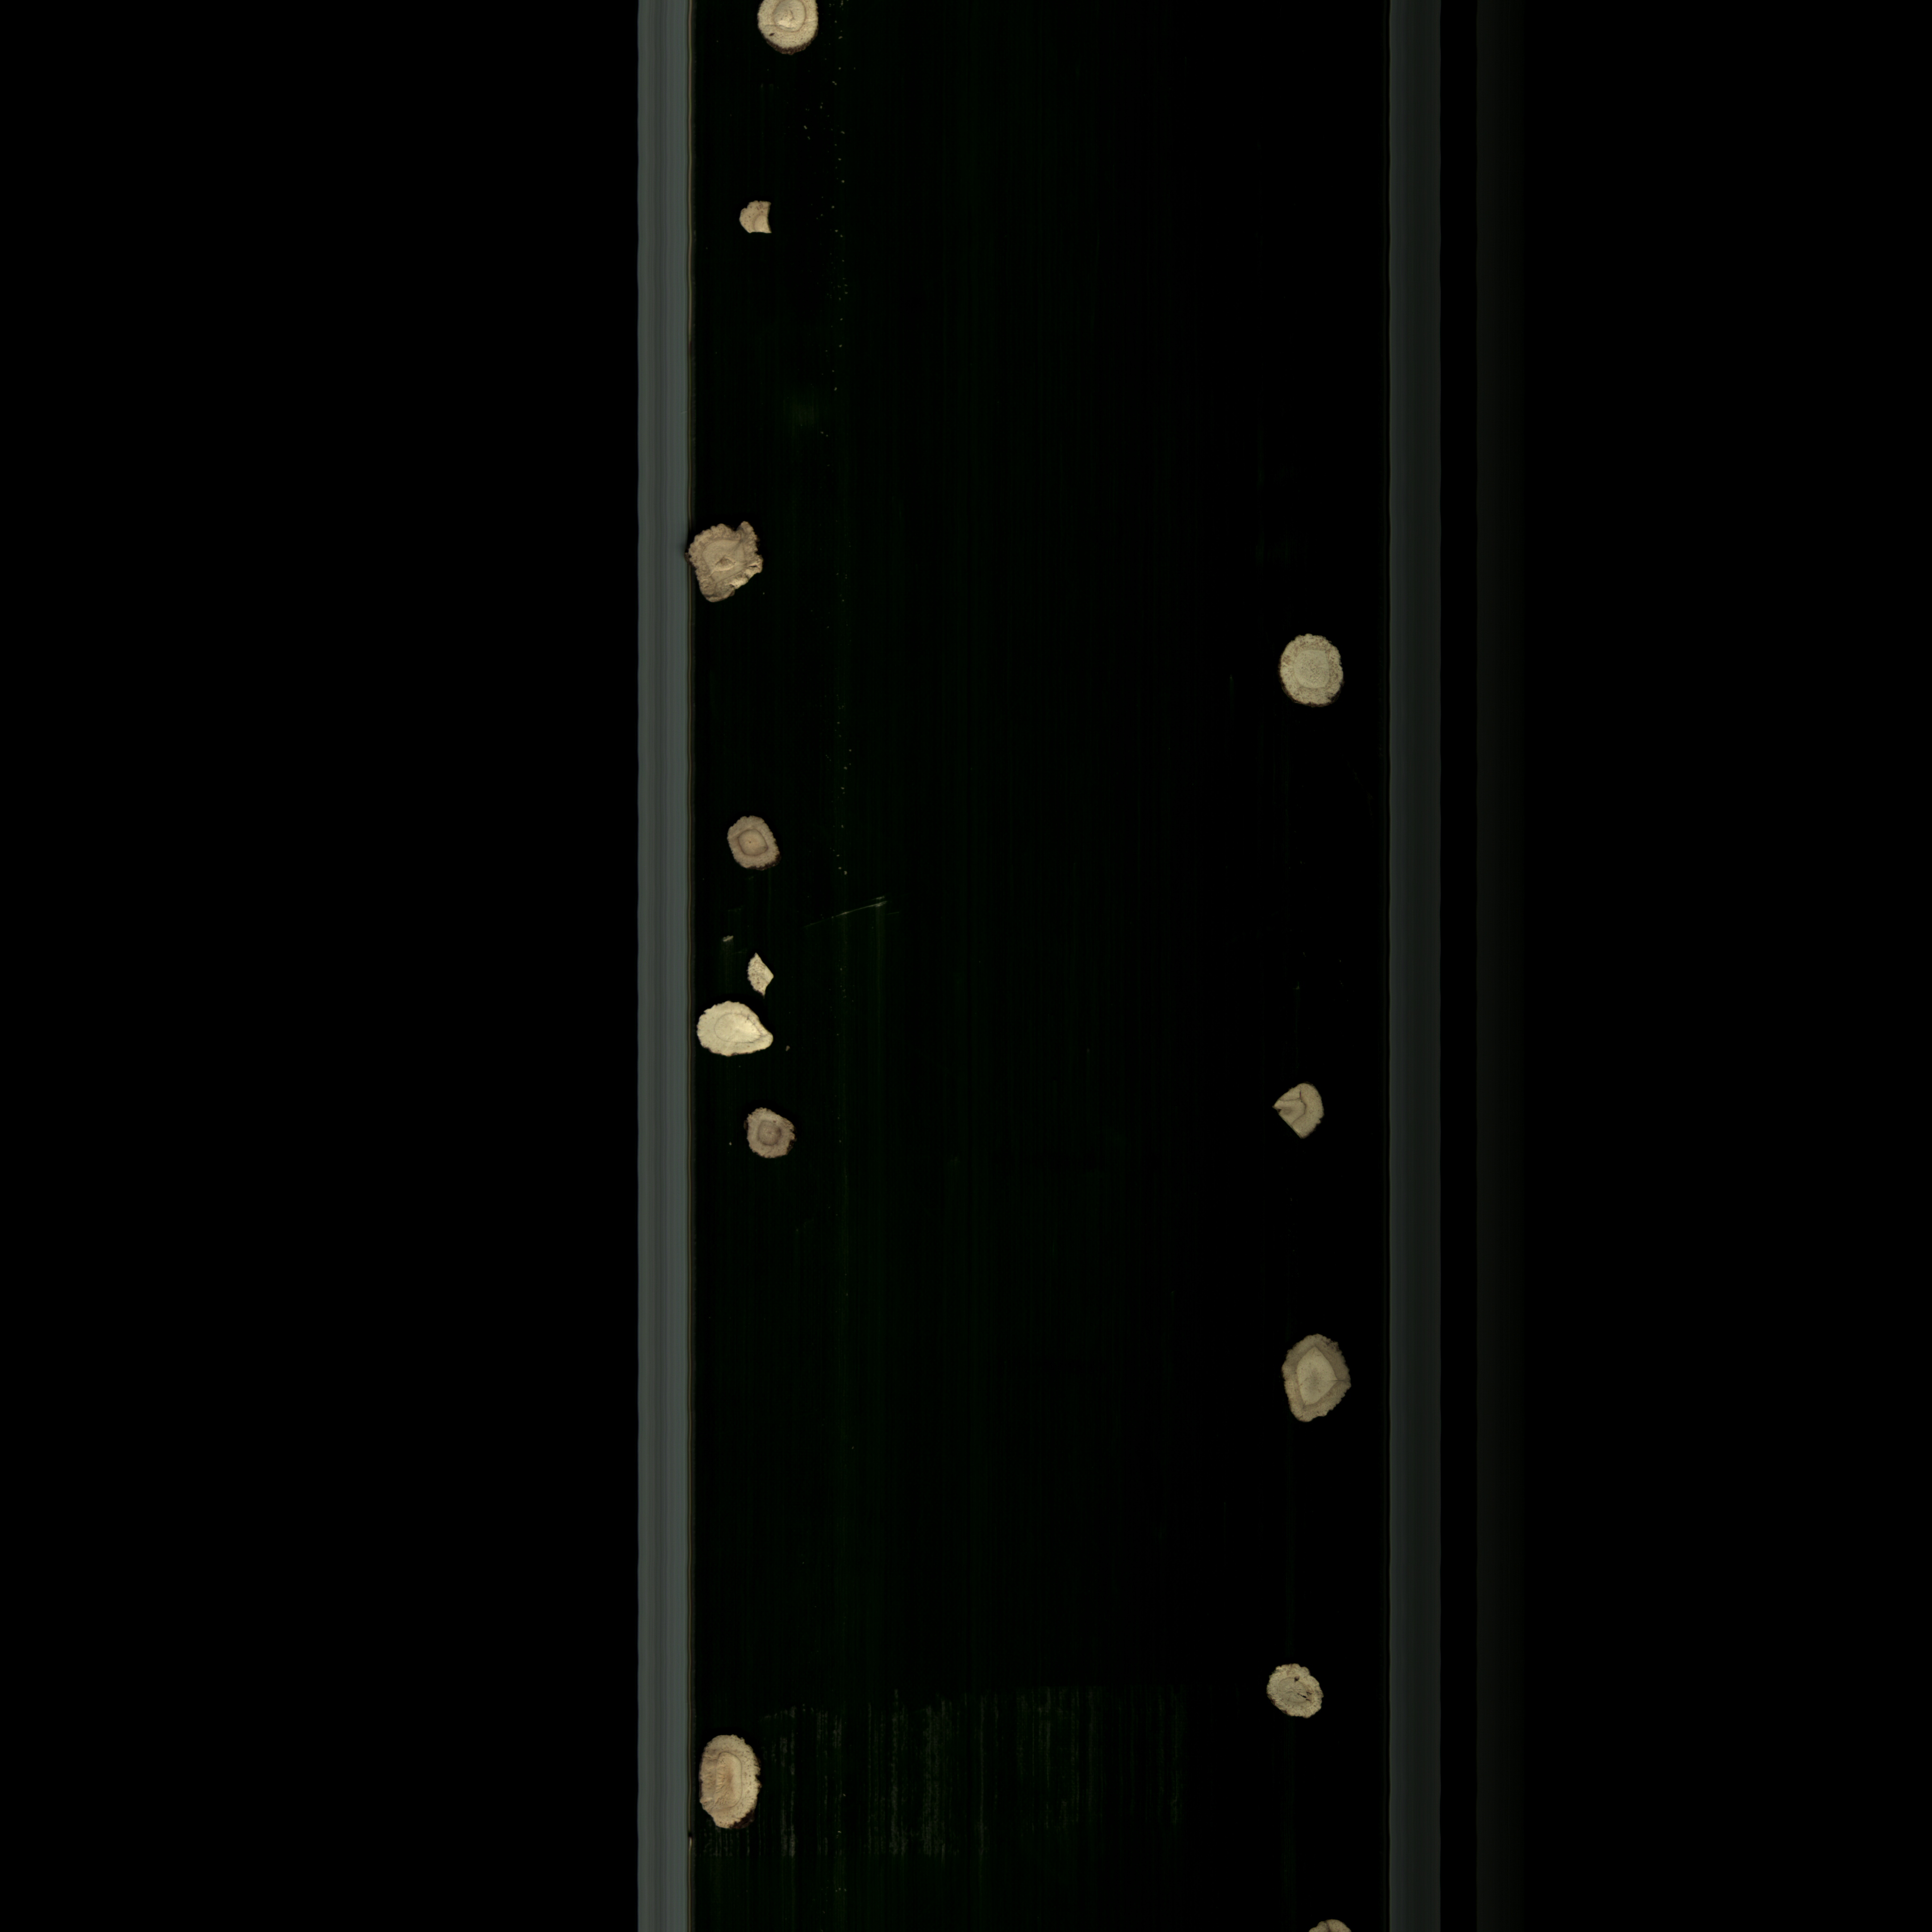distortion: (694, 1730, 782, 1847), (686, 517, 770, 614), (688, 998, 775, 1063)
dreg: (731, 193, 782, 241), (745, 950, 787, 1000)
moldy: (1258, 1322, 1359, 1433), (1253, 1070, 1339, 1155), (1246, 1656, 1330, 1734), (745, 0, 840, 65), (731, 1106, 805, 1171), (720, 814, 791, 879)
